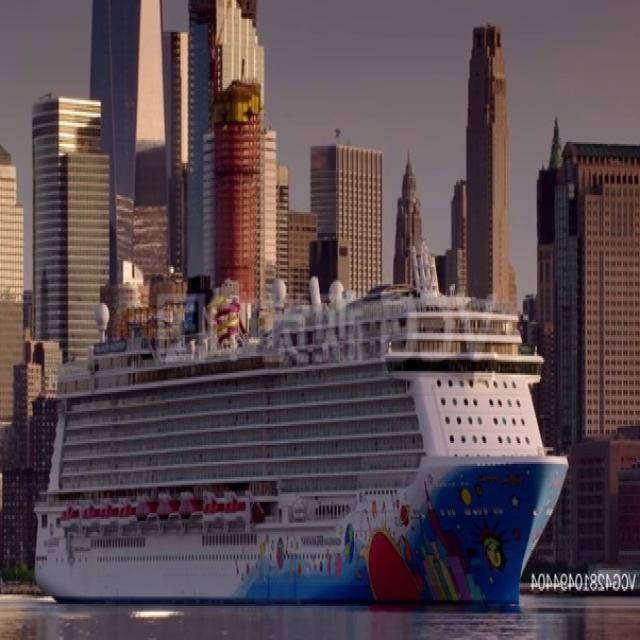passenger ship: (34, 266, 572, 612)
